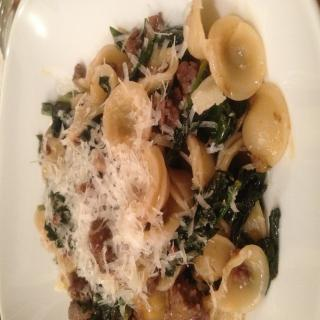Pasta: (29, 1, 291, 320)
